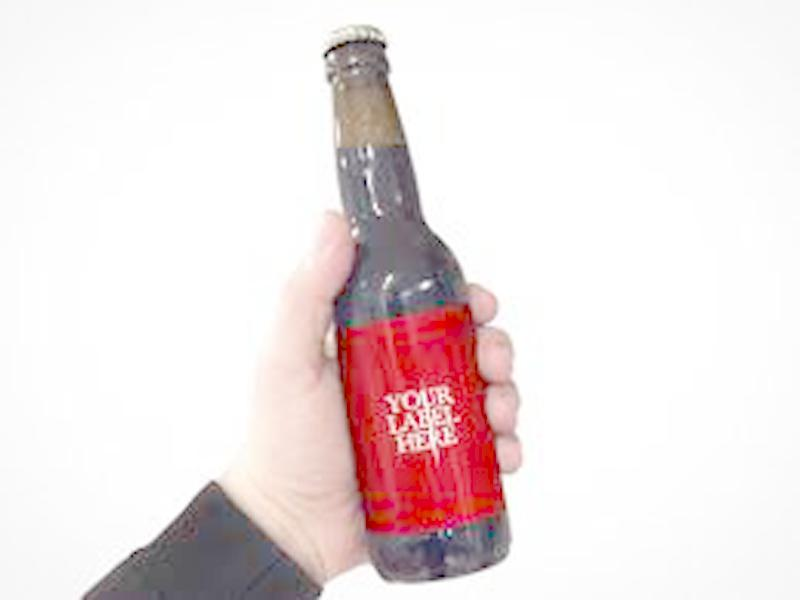Beer: (318, 22, 513, 582)
